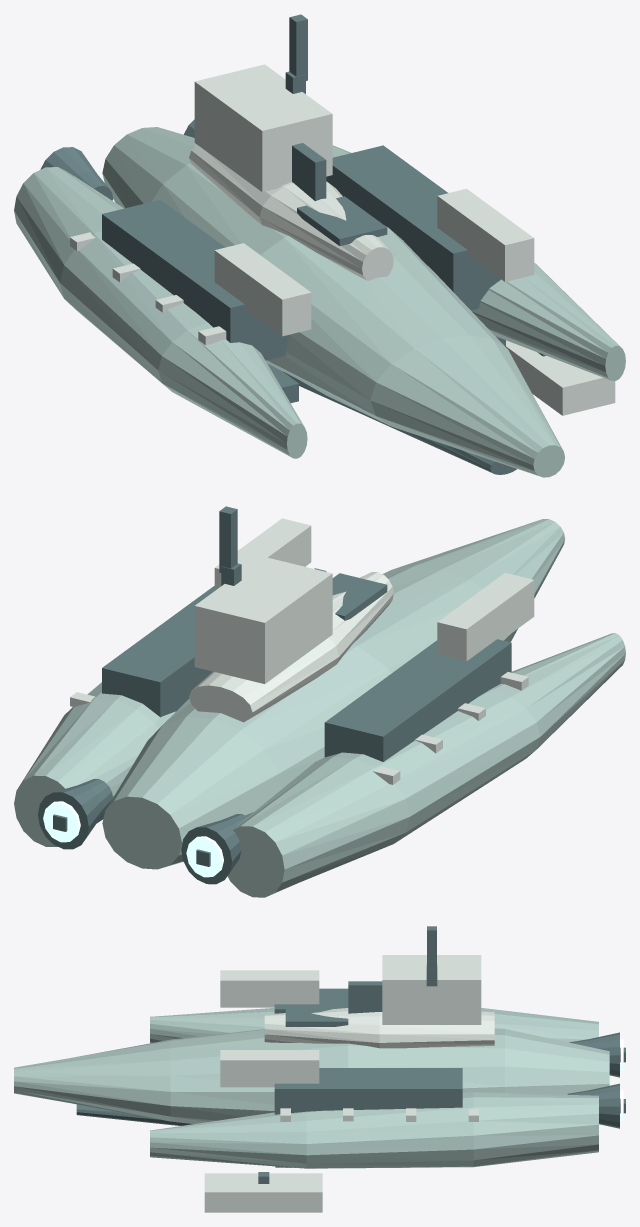
3 views of the same model, one above another, from view 1: azimuth 30°, elevation 25°; view 2: azimuth 150°, elevation 25°; view 3: azimuth 270°, elevation 25° (orthographic). The views are drawn at different scales.
Bounding box in the file's own units: 13.23 × 10.13 × 24.75.
